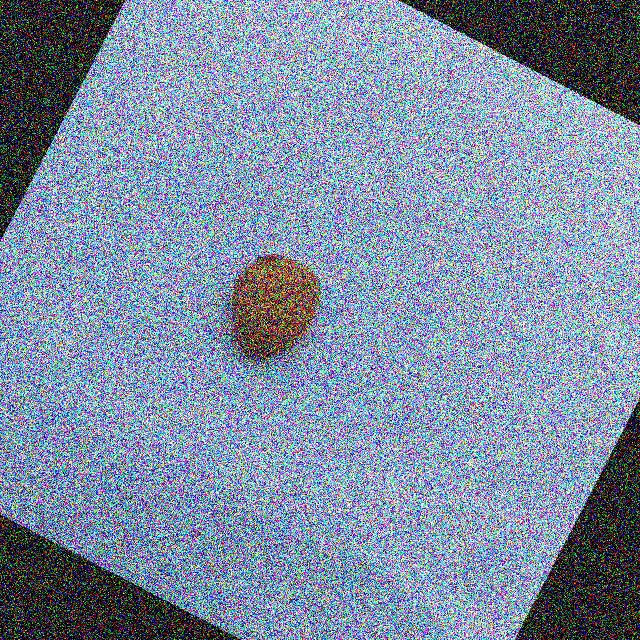grade1: (199, 232, 345, 387)
